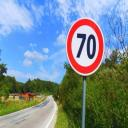speed_limit_70: (67, 18, 103, 74)
